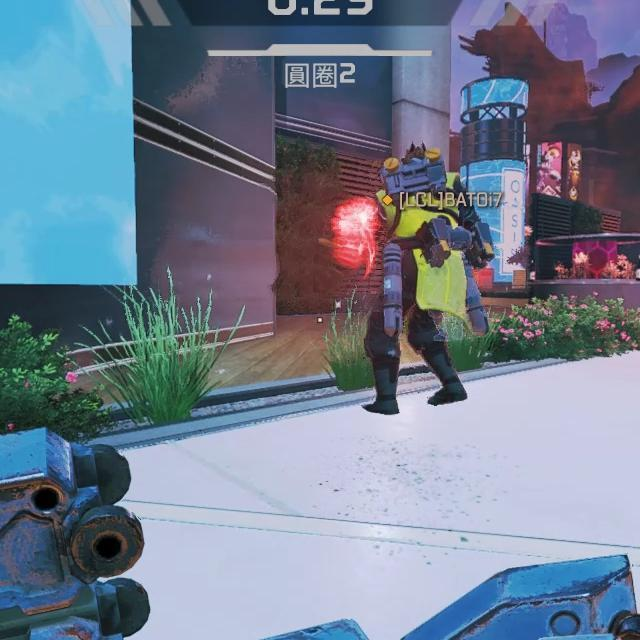avatar: (368, 148, 480, 413)
object: (328, 194, 379, 270)
